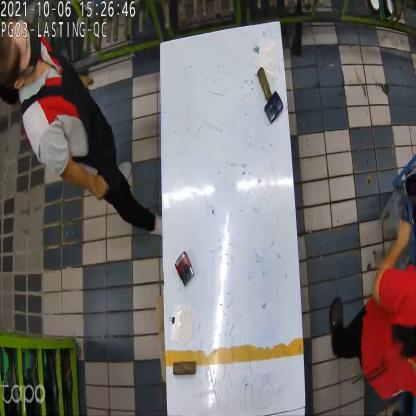stamp: (262, 90, 285, 124), (176, 247, 193, 281)
